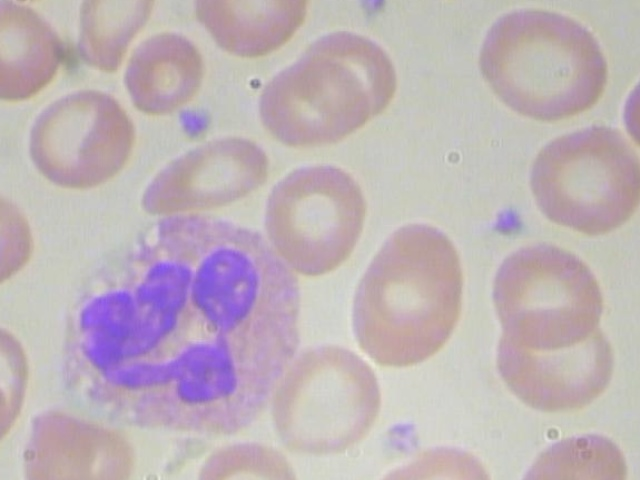Platelets: (375, 416, 431, 462), (480, 200, 530, 246), (177, 102, 220, 143), (350, 0, 395, 27)
RBC: (342, 219, 472, 372), (477, 0, 612, 120), (522, 119, 640, 239), (270, 338, 385, 458), (260, 155, 372, 278), (490, 304, 616, 413), (486, 239, 612, 347), (139, 128, 274, 221), (258, 47, 374, 147), (26, 87, 137, 190), (120, 28, 204, 125), (189, 0, 312, 63), (0, 0, 68, 108), (66, 0, 156, 78)
WBC: (54, 201, 319, 445)
